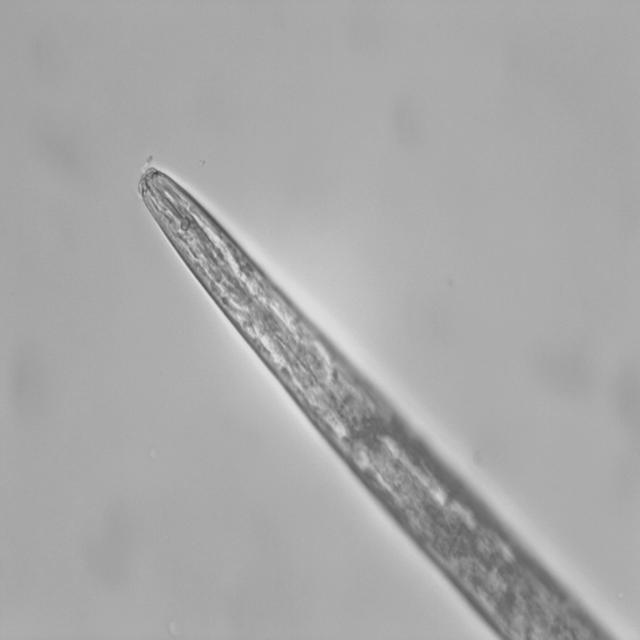Pratylenchus: (123, 150, 494, 522)
